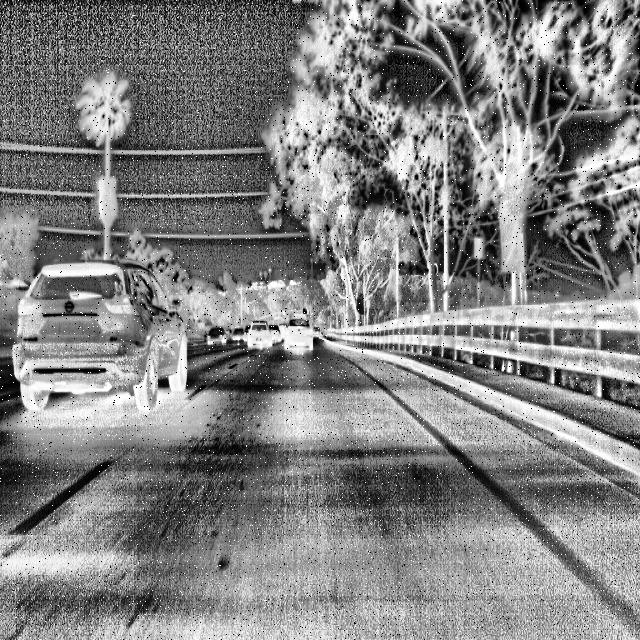car: (12, 238, 210, 448), (276, 302, 317, 370), (248, 314, 279, 364), (204, 311, 230, 349), (222, 316, 248, 351)
